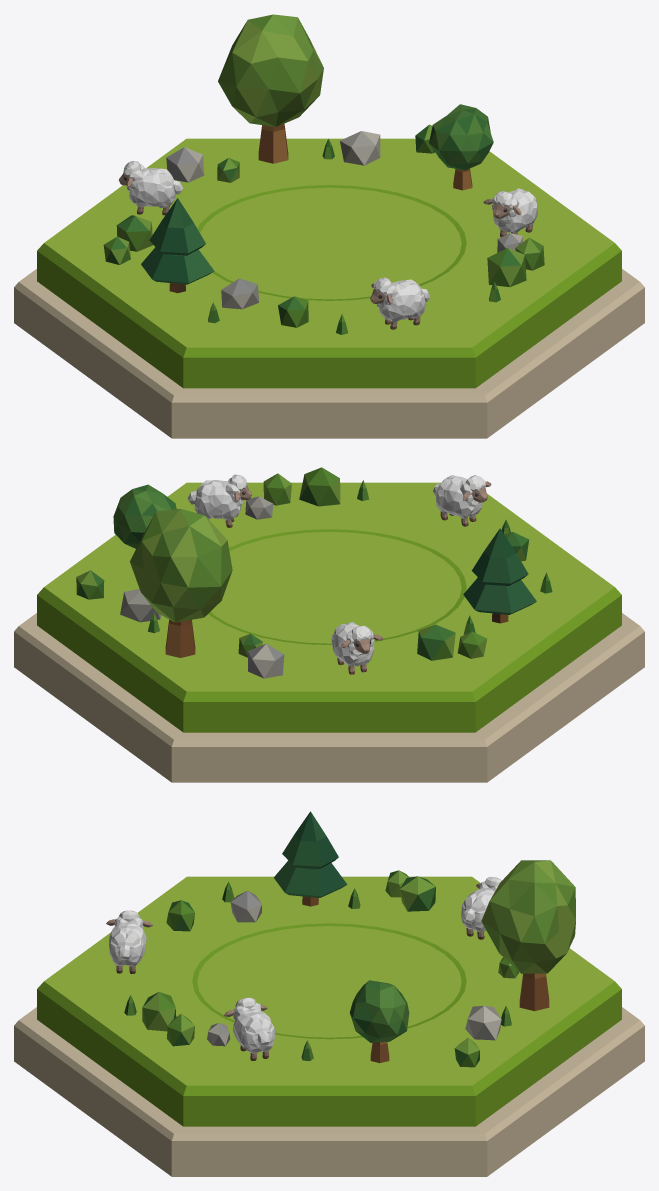
Rendered from hex_pasture.glb.
3 renders of one model, top to bottom at view 1: azimuth 30°, elevation 25°; view 2: azimuth 150°, elevation 25°; view 3: azimuth 270°, elevation 25°, orthographic.
Visible parts, largest first — view 1: hex_pasture; view 2: hex_pasture; view 3: hex_pasture.
Boxes of the visible parts, <box> form: hex_pasture: <box>14,14,644,438</box>; hex_pasture: <box>14,467,644,782</box>; hex_pasture: <box>14,811,644,1176</box>.
Size of the model in its own units: 1.73 by 0.7771 by 2.
